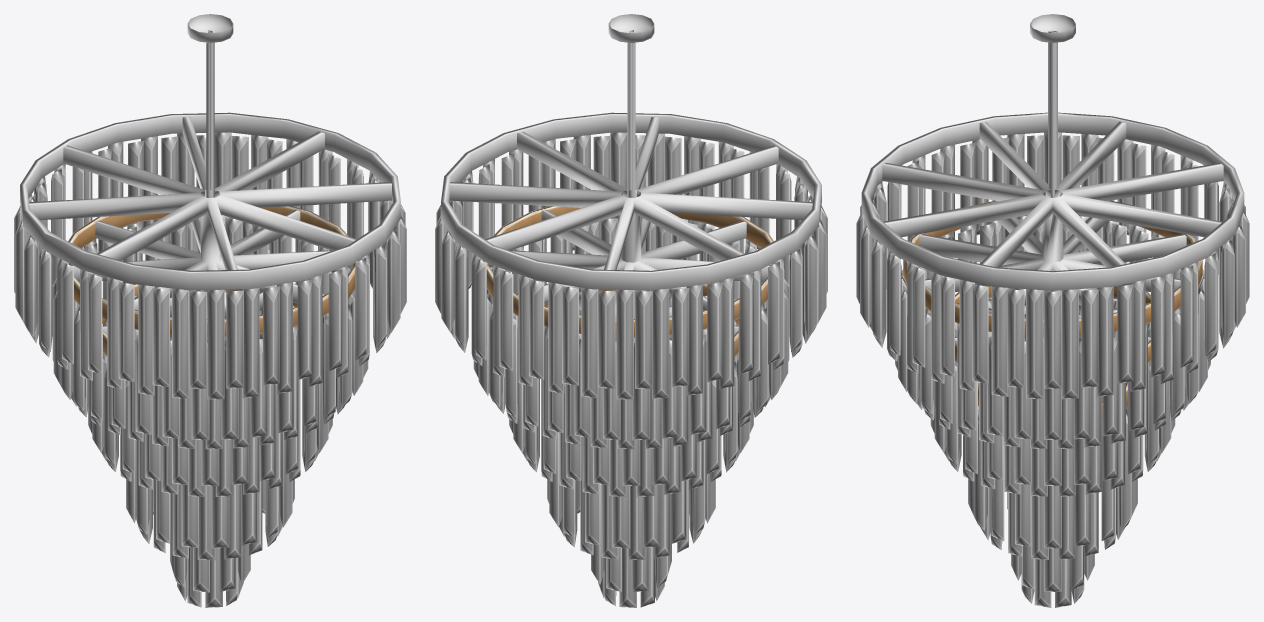
The model's file is Chandelier.fbx.
The picture shows the model from 3 angles, left to right: view 1: azimuth 30°, elevation 25°; view 2: azimuth 150°, elevation 25°; view 3: azimuth 270°, elevation 25°; orthographic projection.
Parts seen in each view (by area): view 1: Chandelier_geo; view 2: Chandelier_geo; view 3: Chandelier_geo.
Boxes of the visible parts, x1,y1,x2,y2 form: Chandelier_geo: (14,14,406,607); Chandelier_geo: (435,14,827,607); Chandelier_geo: (856,14,1249,607).
Bounding box in the file's own units: 130 × 208 × 130.
